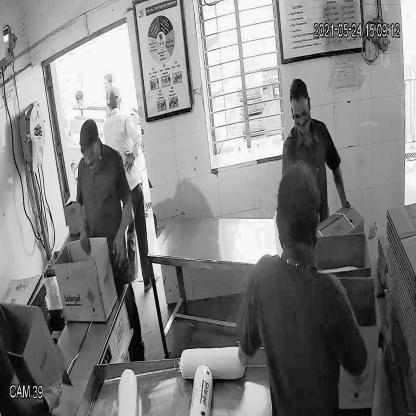goggles: (80, 138, 103, 164)
